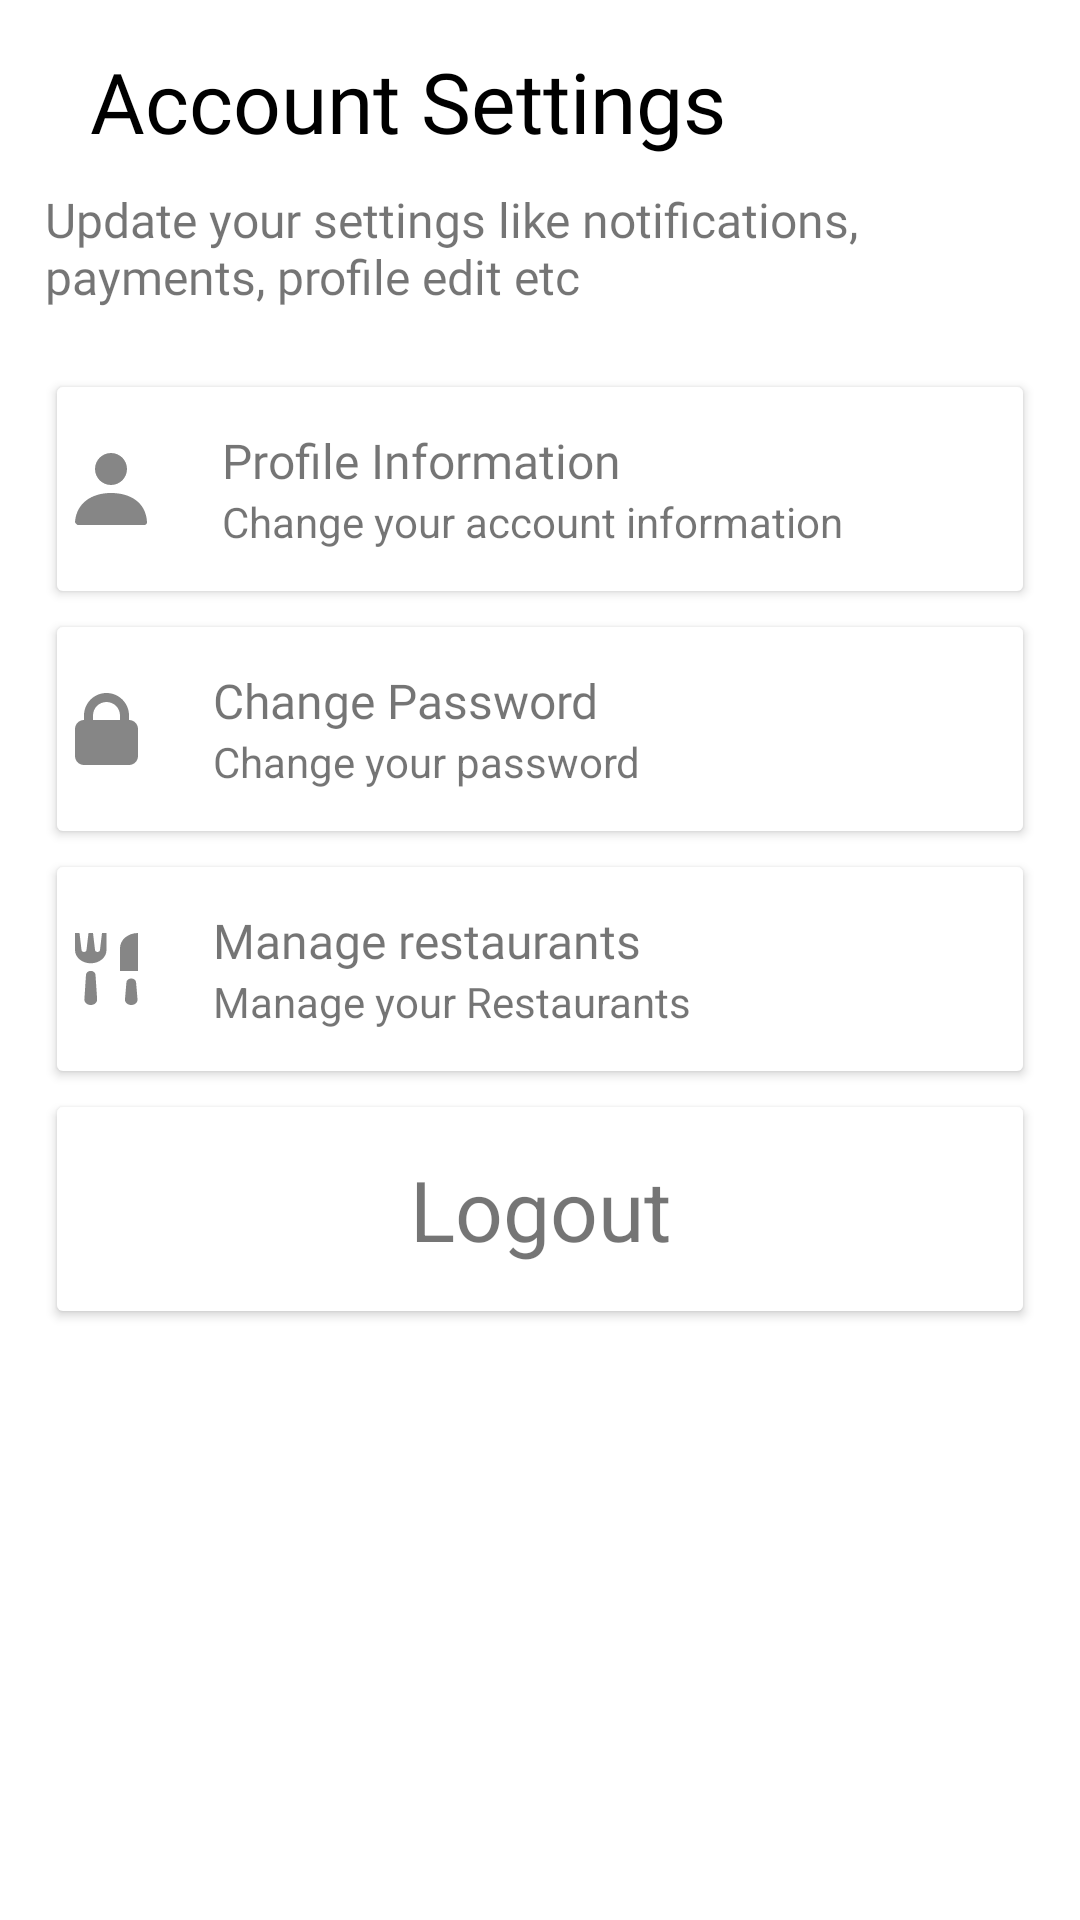

Icons on this 1080 × 1920 Android screen, each with its box as (x1, y1, x2, y2):
lock: (75, 693, 138, 765)
